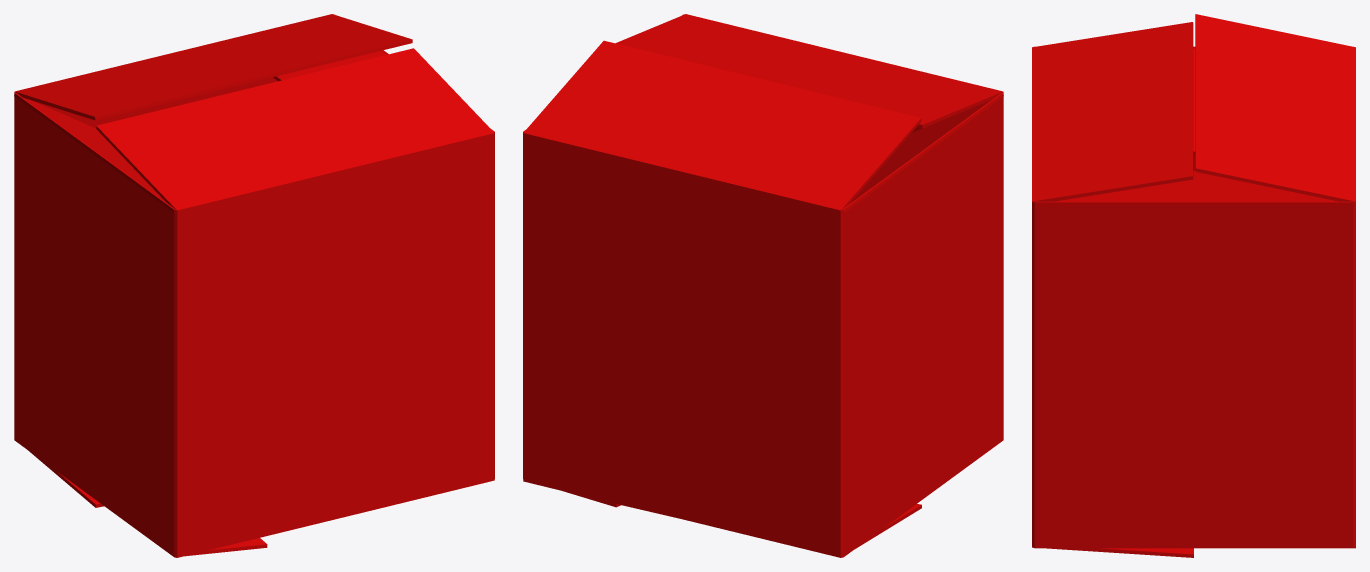
Rendered from cardboardBox3.fbx.
The picture shows the model from 3 angles, left to right: view 1: azimuth 30°, elevation 25°; view 2: azimuth 150°, elevation 25°; view 3: azimuth 270°, elevation 25°; orthographic projection.
Parts seen in each view (by area): view 1: Cardboard_Box_3; view 2: Cardboard_Box_3; view 3: Cardboard_Box_3.
Part boxes in pixels (left/top/right/bottom): Cardboard_Box_3: left=14, top=14, right=494, bottom=557; Cardboard_Box_3: left=523, top=14, right=1003, bottom=557; Cardboard_Box_3: left=1032, top=14, right=1355, bottom=557.
Bounding box in the file's own units: 39.89 × 48.29 × 35.
